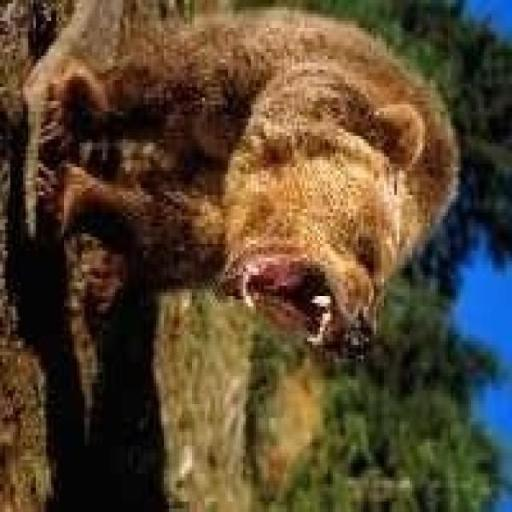Bear: (20, 0, 461, 358)
